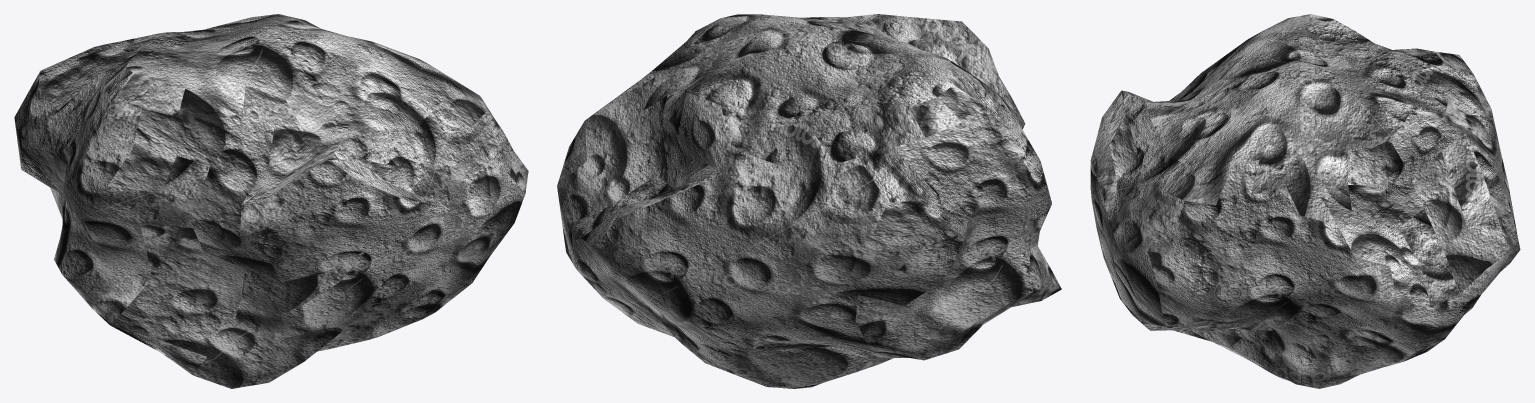
The model's file is asteroide_3.FBX.
The picture shows the model from 3 angles, left to right: view 1: azimuth 30°, elevation 25°; view 2: azimuth 150°, elevation 25°; view 3: azimuth 270°, elevation 25°; orthographic projection. The views are drawn at different scales.
Visible parts, largest first — view 1: asteroide_1; view 2: asteroide_1; view 3: asteroide_1.
Part boxes in pixels (x1,y1,x2,y2): asteroide_1: (14,14,528,388); asteroide_1: (557,14,1061,388); asteroide_1: (1090,14,1520,388).
Size of the model in its own units: 447 by 305 by 422.
1 material, 1 textured.
